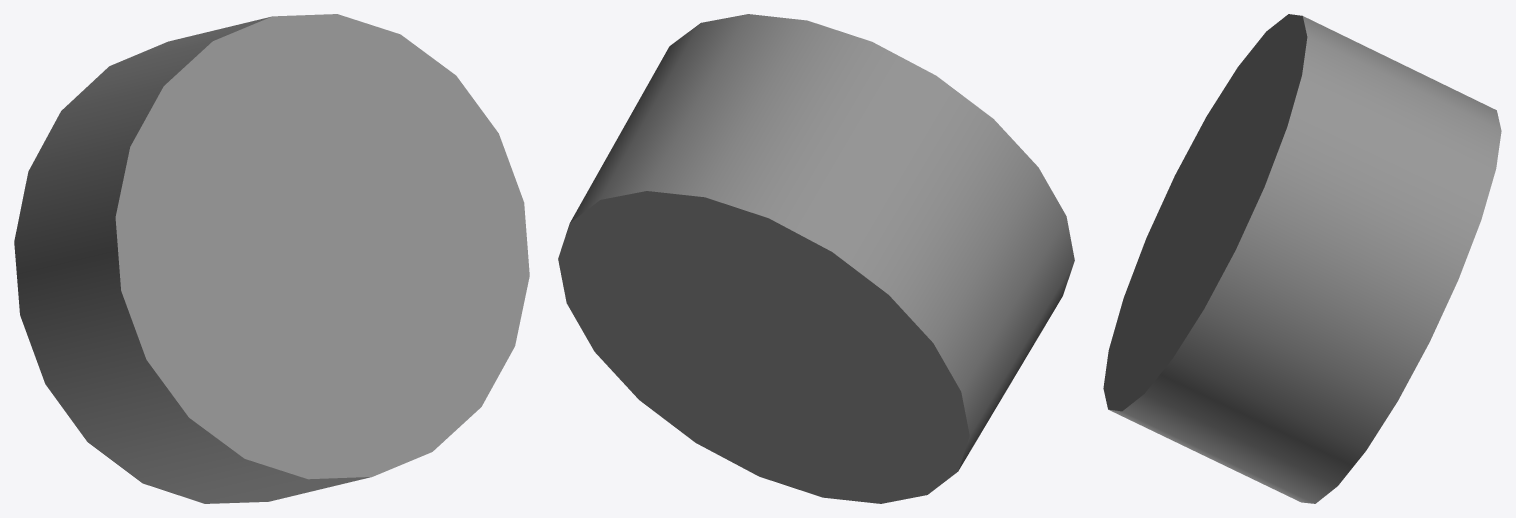
Rendered from TuboTanque_1.fbx.
The picture shows the model from 3 angles, left to right: view 1: azimuth 30°, elevation 25°; view 2: azimuth 150°, elevation 25°; view 3: azimuth 270°, elevation 25°; orthographic projection. The views are drawn at different scales.
Parts seen in each view (by area): view 1: TuboTanque_1; view 2: TuboTanque_1; view 3: TuboTanque_1.
Part boxes in pixels (x1=…): TuboTanque_1: x1=14, y1=14, x2=529, y2=503; TuboTanque_1: x1=558, y1=14, x2=1074, y2=503; TuboTanque_1: x1=1103, y1=14, x2=1501, y2=503.
Size of the model in its own units: 127 by 144 by 116.
